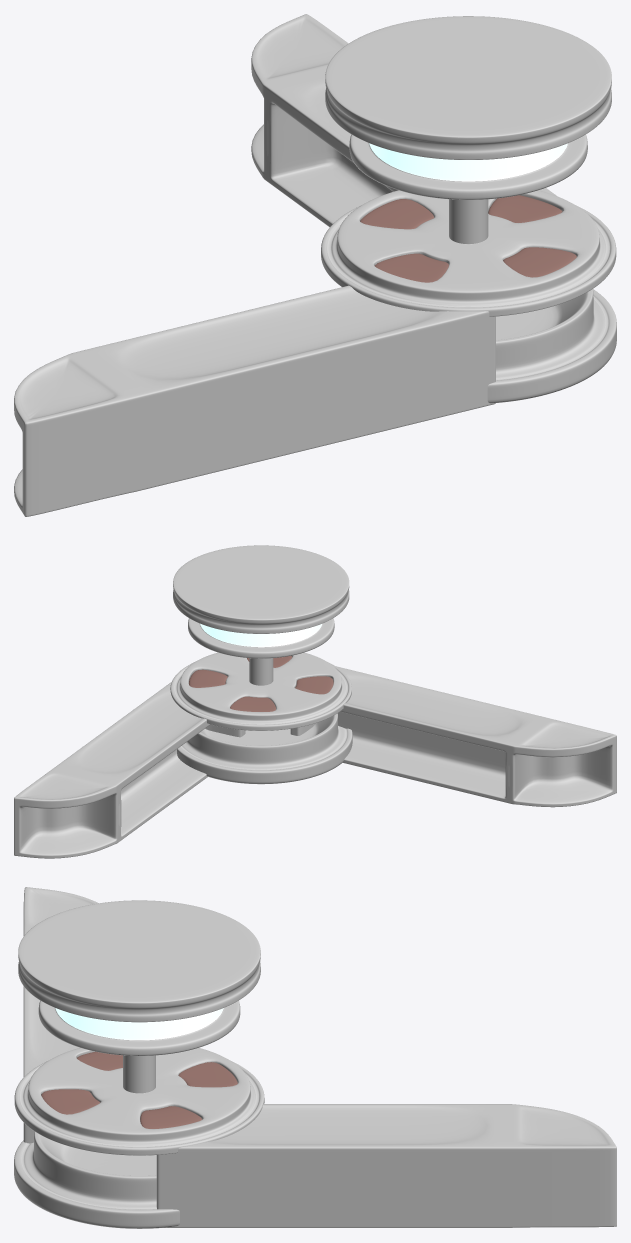
The model's file is pantry.fbx.
3 renders of one model, top to bottom at view 1: azimuth 30°, elevation 25°; view 2: azimuth 150°, elevation 25°; view 3: azimuth 270°, elevation 25°, orthographic. The views are drawn at different scales.
Parts seen in each view (by area): view 1: counter.001, pantry, counter, freezer, dirt; view 2: pantry, counter.001, counter, freezer, dirt; view 3: counter, pantry, freezer, counter.001, dirt.
Part boxes in pixels (<box>): counter.001: <box>14,285,495,516</box>; pantry: <box>321,16,616,316</box>; counter: <box>251,14,556,227</box>; freezer: <box>487,289,616,403</box>; dirt: <box>360,195,576,282</box>; pantry: <box>170,545,351,730</box>; counter.001: <box>290,666,616,807</box>; counter: <box>14,682,245,858</box>; freezer: <box>177,713,352,784</box>; dirt: <box>189,656,333,711</box>; counter: <box>156,1104,616,1227</box>; pantry: <box>14,900,264,1155</box>; freezer: <box>14,1131,179,1228</box>; counter.001: <box>23,887,98,1143</box>; dirt: <box>41,1051,237,1128</box>.
Size of the model in its own units: 112 by 44.78 by 108.
